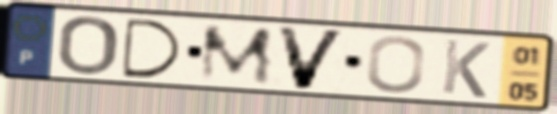D: (120, 16, 186, 81)
K: (438, 37, 494, 101)
M: (196, 24, 276, 86)
O: (55, 14, 122, 77), (363, 34, 428, 95)
V: (272, 24, 350, 92)
